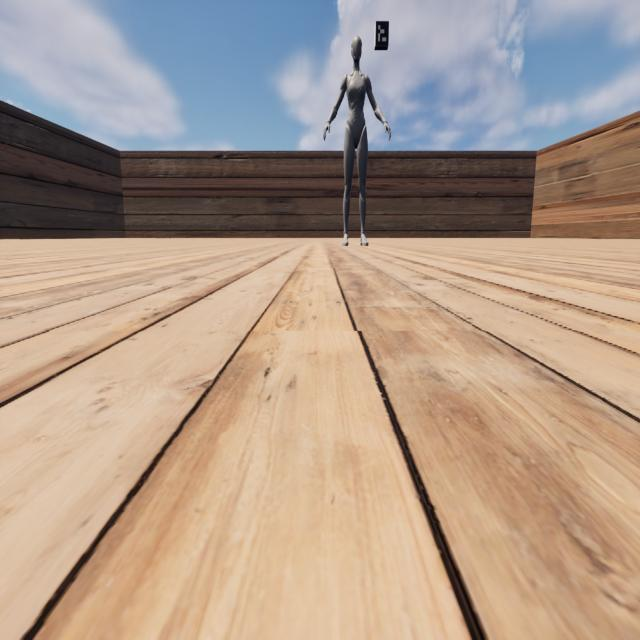aruco: (376, 20, 389, 47)
hip: (344, 126, 368, 134)
